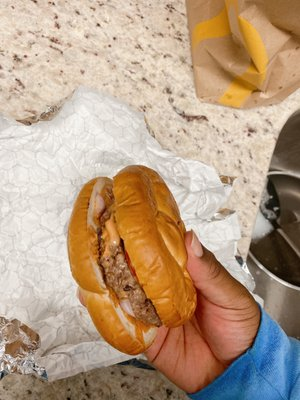burger: (66, 164, 198, 355)
